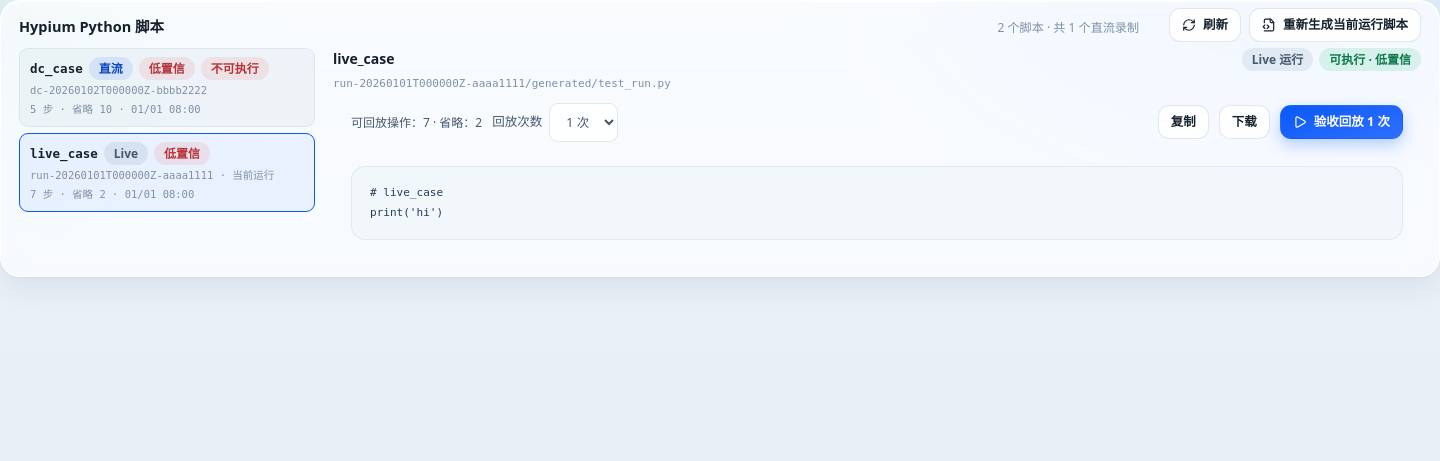
Test: ScriptPanel 脚本库 › Live 可回放脚本走验收回放并渲染 attempt 结果
The width and height of the screenshot is (1440, 461).
What coordinates should you click on to do the following:
click the button "验收回放 1 次"
I would click on:
 (1341, 122)
Its box is left=1280, top=106, right=1403, bottom=140.
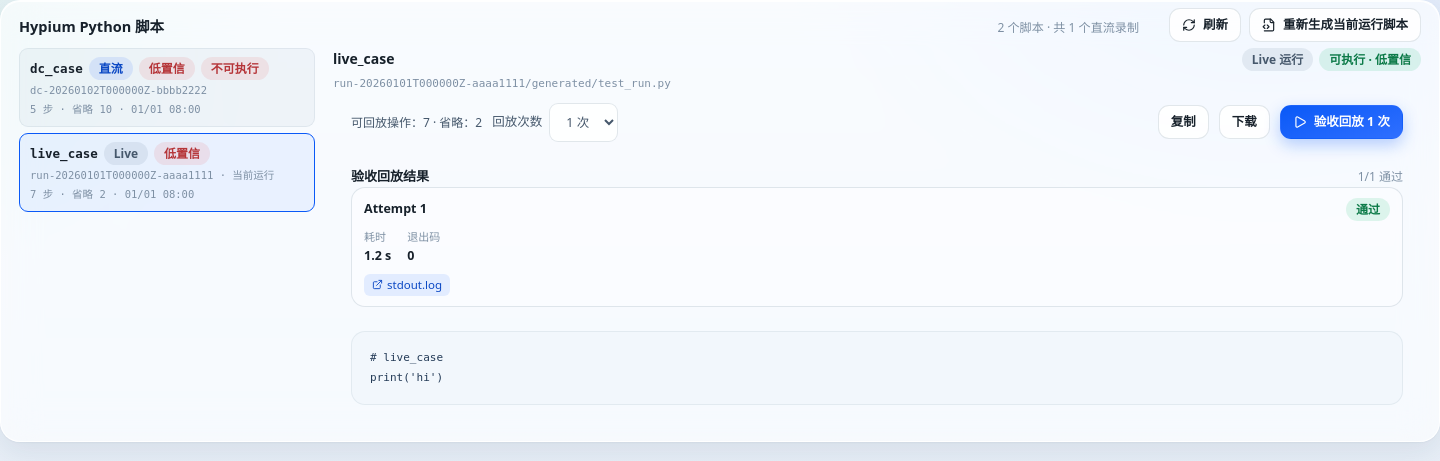
Check: the text "验收回放结果" is shown, box left=351, top=167, right=429, bottom=185
Check: the text "Attempt 1" is shown, box left=364, top=198, right=1390, bottom=221
